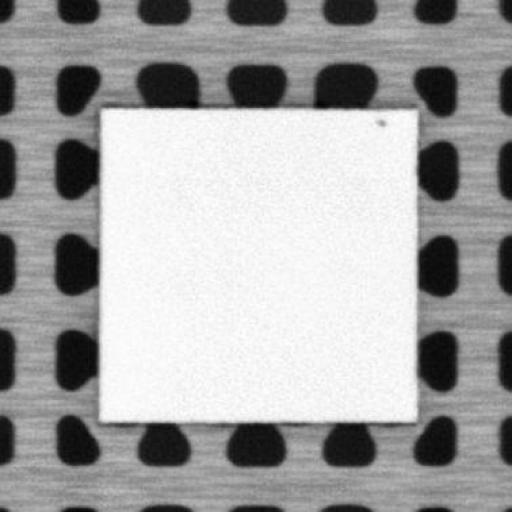DIE_INK: (372, 113, 384, 127)
